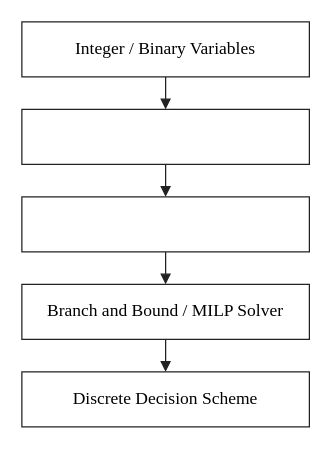
Some shapes in this 331 by 449 pixel diagram are drawn without their labels. Each missing label, with the centre of its shape:
"Logical Constraints" belongs at pixel 165 224.
"Objective Function" belongs at pixel 165 136.
